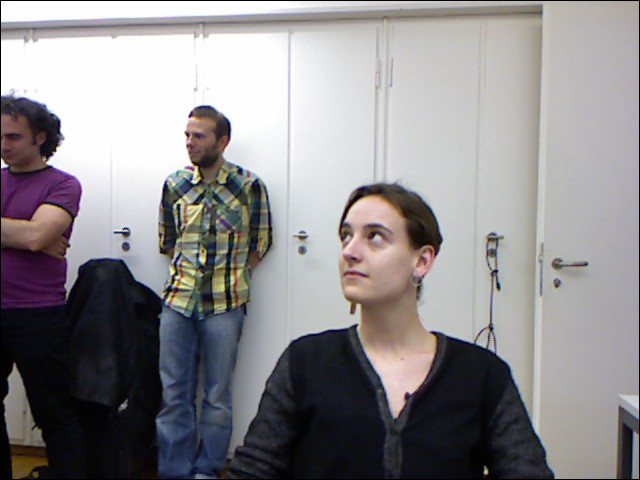deflection: (264, 181, 513, 429), (159, 102, 260, 206), (1, 97, 82, 210)
